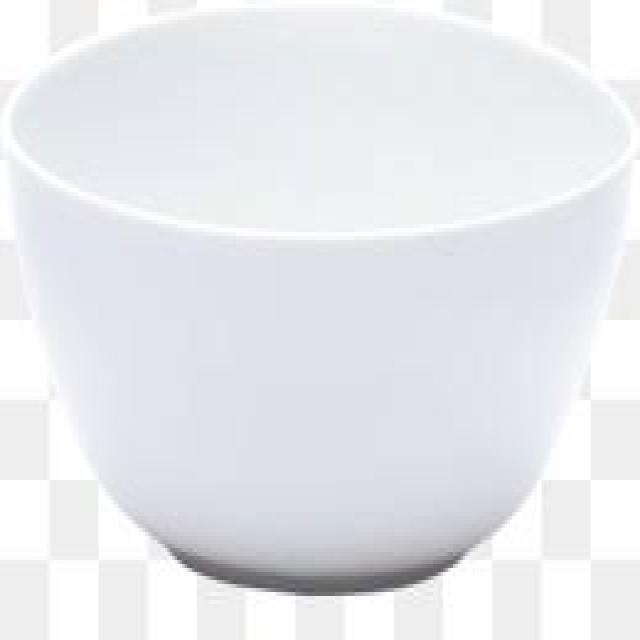Mangkok: (3, 13, 635, 595)
